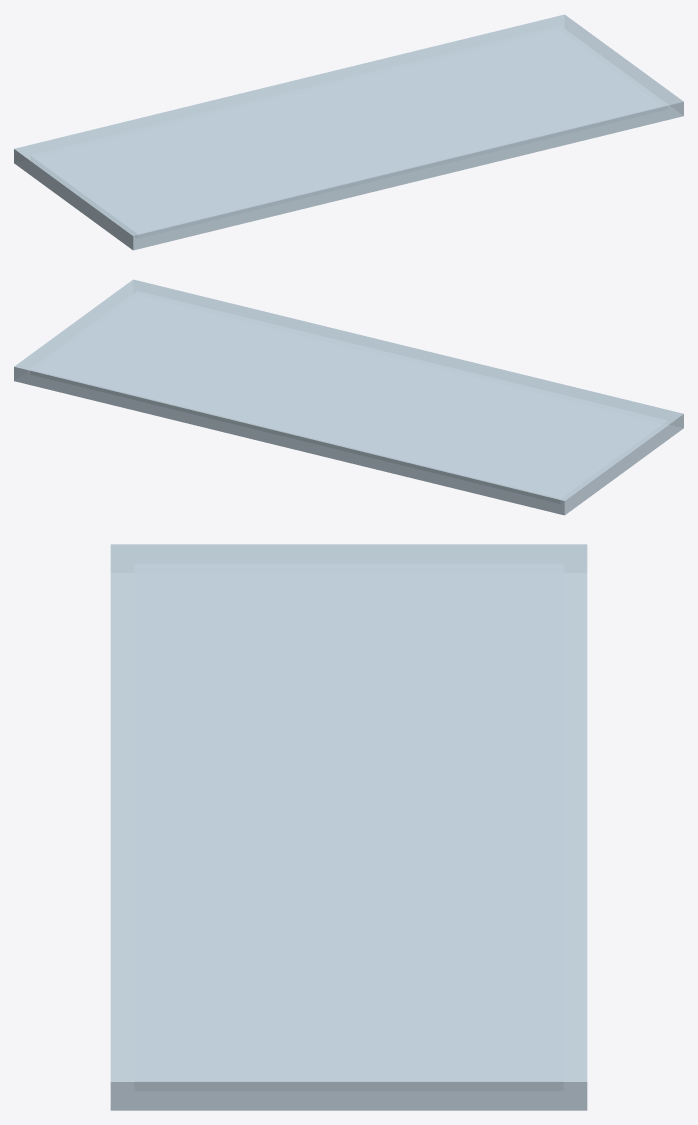
3 views of the same model, one above another, from view 1: azimuth 30°, elevation 25°; view 2: azimuth 150°, elevation 25°; view 3: azimuth 270°, elevation 25° (orthographic). The views are drawn at different scales.
Visible parts, largest first — view 1: window_double_1u_run001; view 2: window_double_1u_run001; view 3: window_double_1u_run001.
Boxes of the visible parts, bbox=[...] form: window_double_1u_run001: bbox=[14, 14, 683, 250]; window_double_1u_run001: bbox=[14, 279, 683, 515]; window_double_1u_run001: bbox=[110, 544, 587, 1110].
Bounding box in the file's own units: 4 × 0.1 × 1.5.
